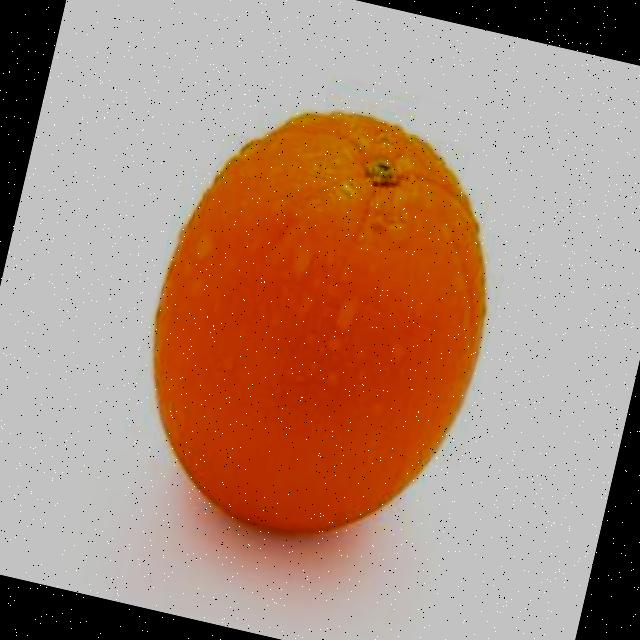orange: (108, 70, 530, 573)
